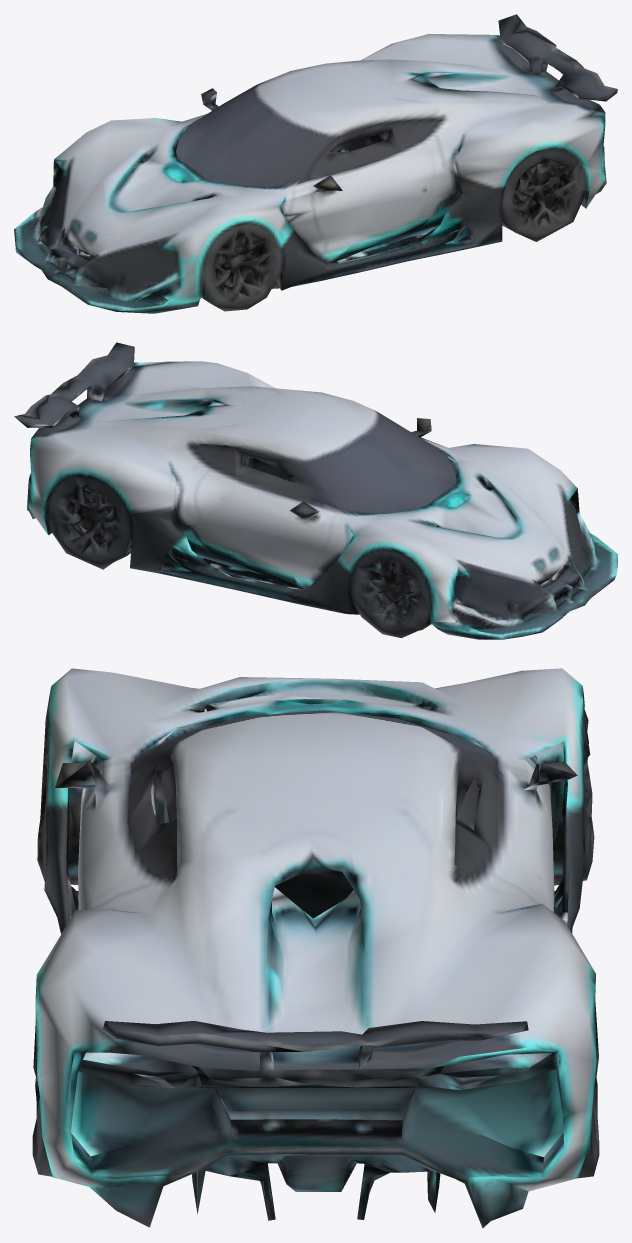
Rendered from Futuristic_sports_car_1210141513_texture-v1.glb.
3 renders of one model, top to bottom at view 1: azimuth 30°, elevation 25°; view 2: azimuth 150°, elevation 25°; view 3: azimuth 270°, elevation 25°, orthographic. The views are drawn at different scales.
Parts seen in each view (by area): view 1: Mesh1.0; view 2: Mesh1.0; view 3: Mesh1.0.
Boxes of the visible parts, x1,y1,x2,y2 form: Mesh1.0: (14, 14, 617, 313); Mesh1.0: (14, 342, 617, 639); Mesh1.0: (32, 668, 599, 1228).
Size of the model in its own units: 5.26 by 1.3 by 2.46.
1 material, 1 textured.
